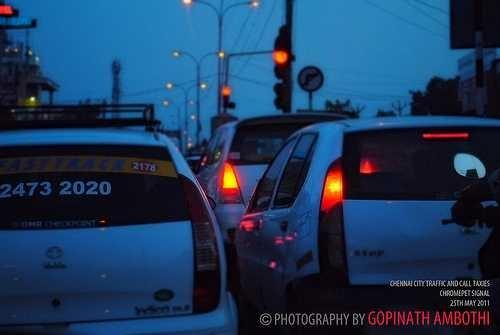red: (270, 44, 291, 113), (220, 85, 232, 111), (272, 46, 289, 64)
